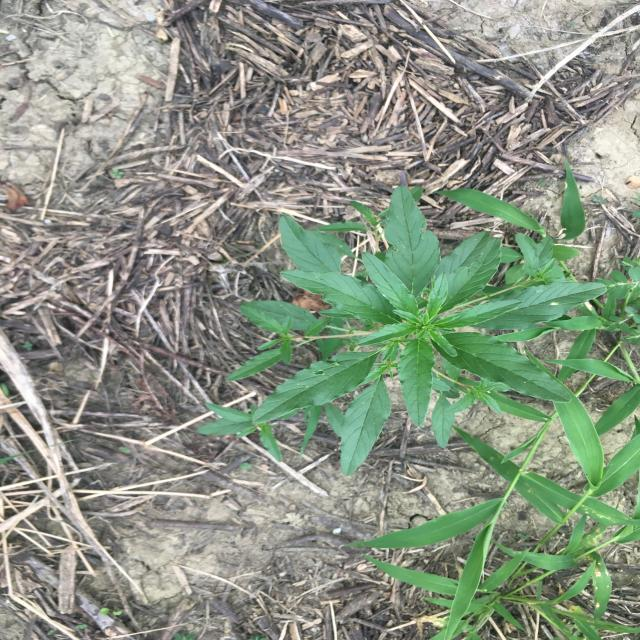Waterhemp: (195, 185, 610, 478)
